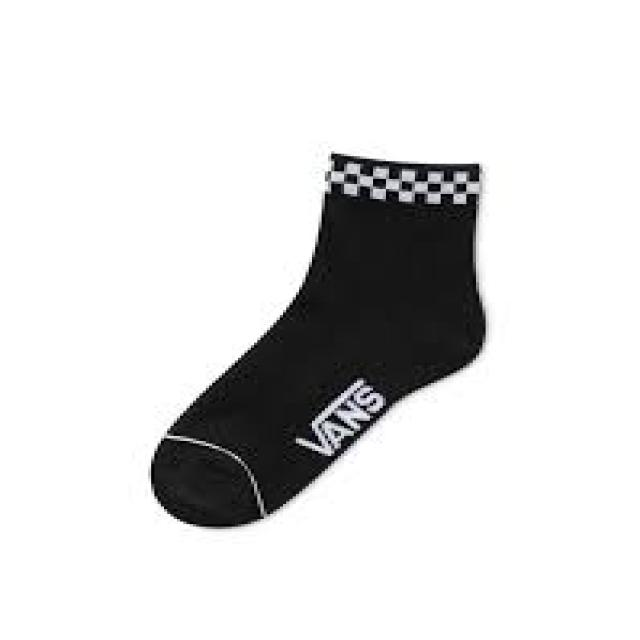sock: (148, 148, 486, 526)
